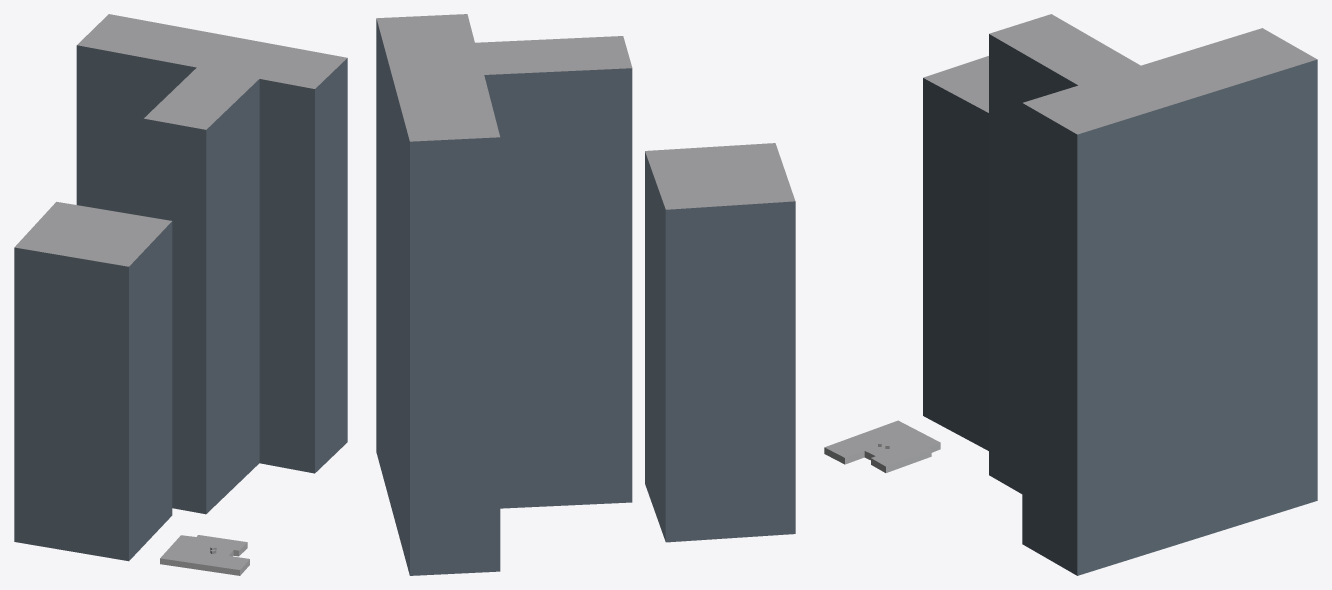
File: building_1_-5.glb
The picture shows the model from 3 angles, left to right: view 1: azimuth 30°, elevation 25°; view 2: azimuth 150°, elevation 25°; view 3: azimuth 270°, elevation 25°; orthographic projection. The views are drawn at different scales.
Parts seen in each view (by area): view 1: glass_dark, roof, industrial; view 2: glass_dark, roof; view 3: glass_dark, roof, industrial.
Boxes of the visible parts, x1,y1,x2,y2 form: glass_dark: (14,45,347,561); roof: (14,14,347,569); industrial: (160,542,249,575); glass_dark: (376,18,795,575); roof: (376,14,795,209); glass_dark: (923,34,1317,575); roof: (825,14,1316,466); industrial: (824,443,940,472).
Bounding box in the file's own units: 225 × 235 × 238.
